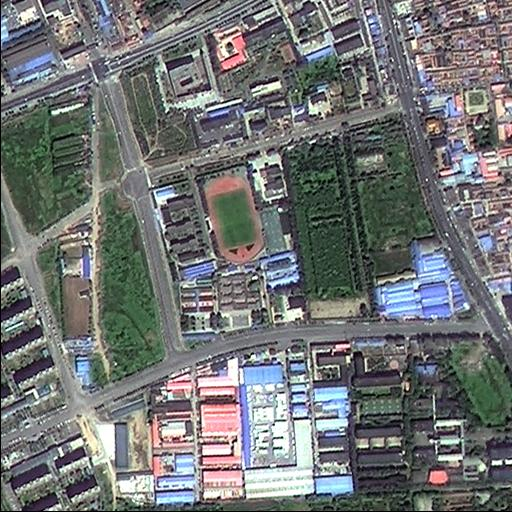school: (144, 154, 291, 278)
